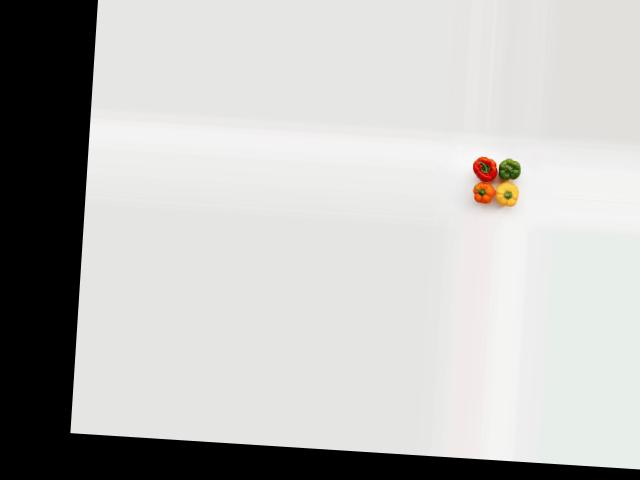bell_pepper: (492, 156, 528, 183)
